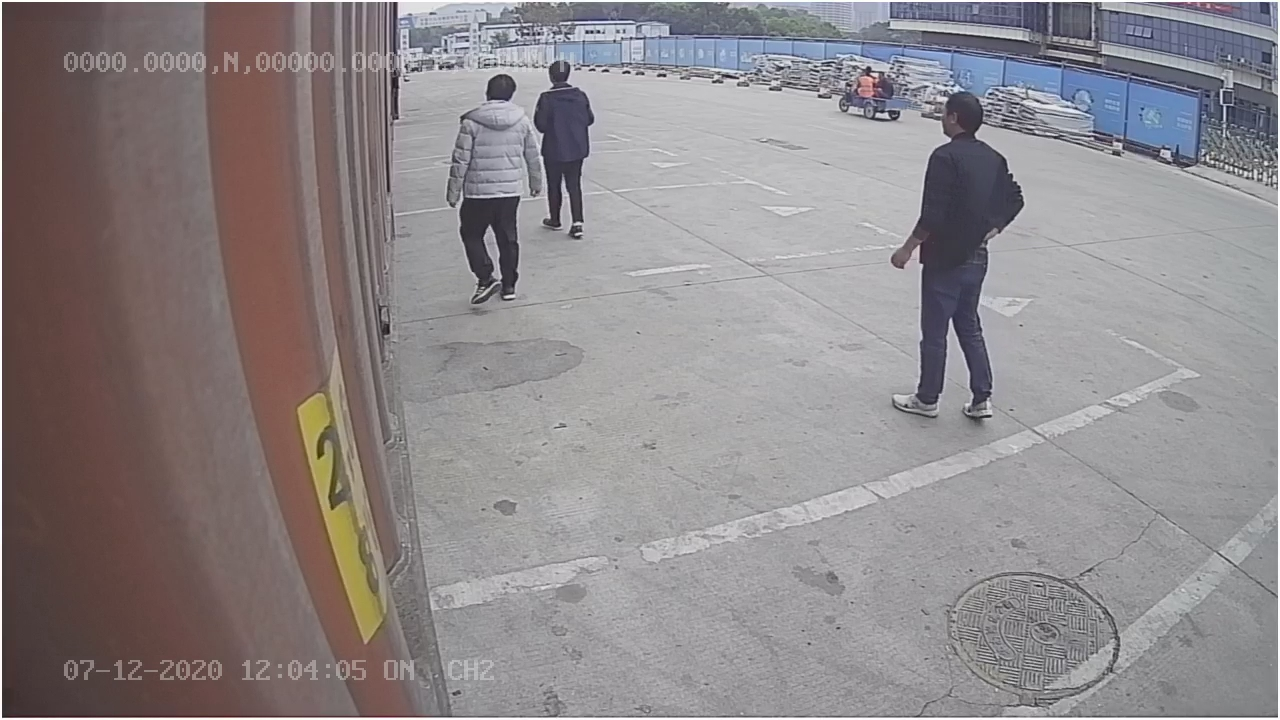person: (892, 91, 1026, 419), (443, 73, 541, 306)
